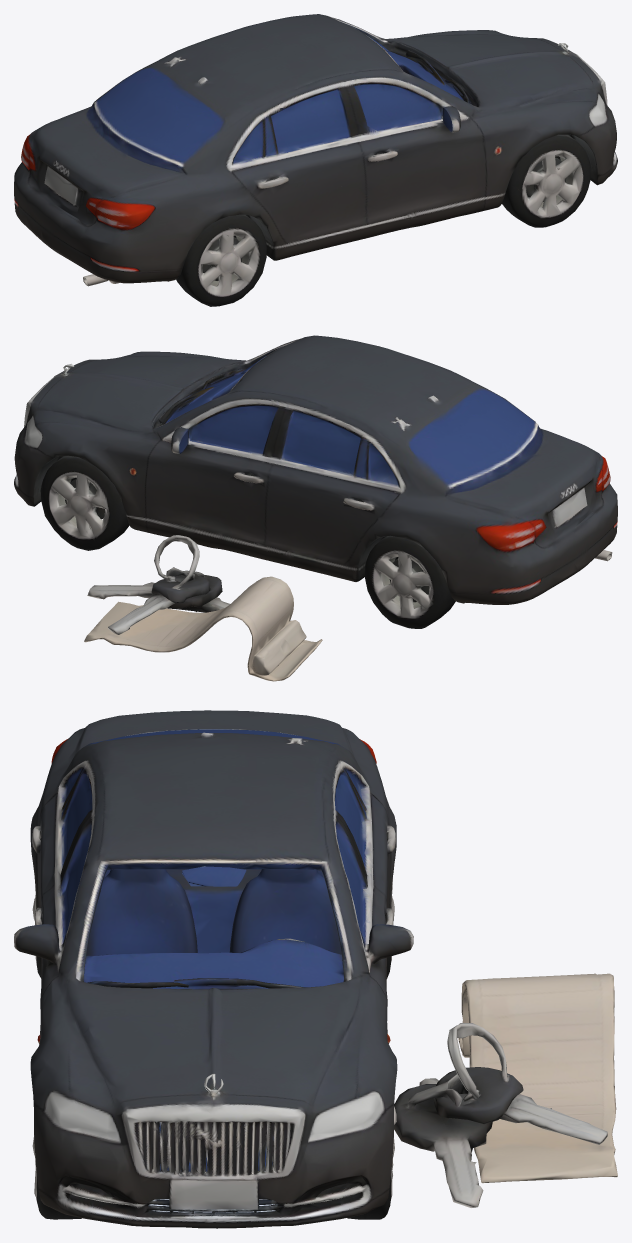
File: discovery-niflheim-v2.glb
The picture shows the model from 3 angles, top to bottom: view 1: azimuth 30°, elevation 25°; view 2: azimuth 150°, elevation 25°; view 3: azimuth 270°, elevation 25°; orthographic projection. The views are drawn at different scales.
Parts seen in each view (by area): view 1: tripo_node_1fe1ceb9-1557-4460-805b-8451e0df6af1; view 2: tripo_node_1fe1ceb9-1557-4460-805b-8451e0df6af1; view 3: tripo_node_1fe1ceb9-1557-4460-805b-8451e0df6af1.
Boxes of the visible parts, x1,y1,x2,y2 form: tripo_node_1fe1ceb9-1557-4460-805b-8451e0df6af1: (14, 14, 617, 306); tripo_node_1fe1ceb9-1557-4460-805b-8451e0df6af1: (14, 335, 617, 681); tripo_node_1fe1ceb9-1557-4460-805b-8451e0df6af1: (14, 710, 617, 1228).
Size of the model in its own units: 1 by 0.3606 by 0.6505.
Materials: 1 (1 with a texture image).
